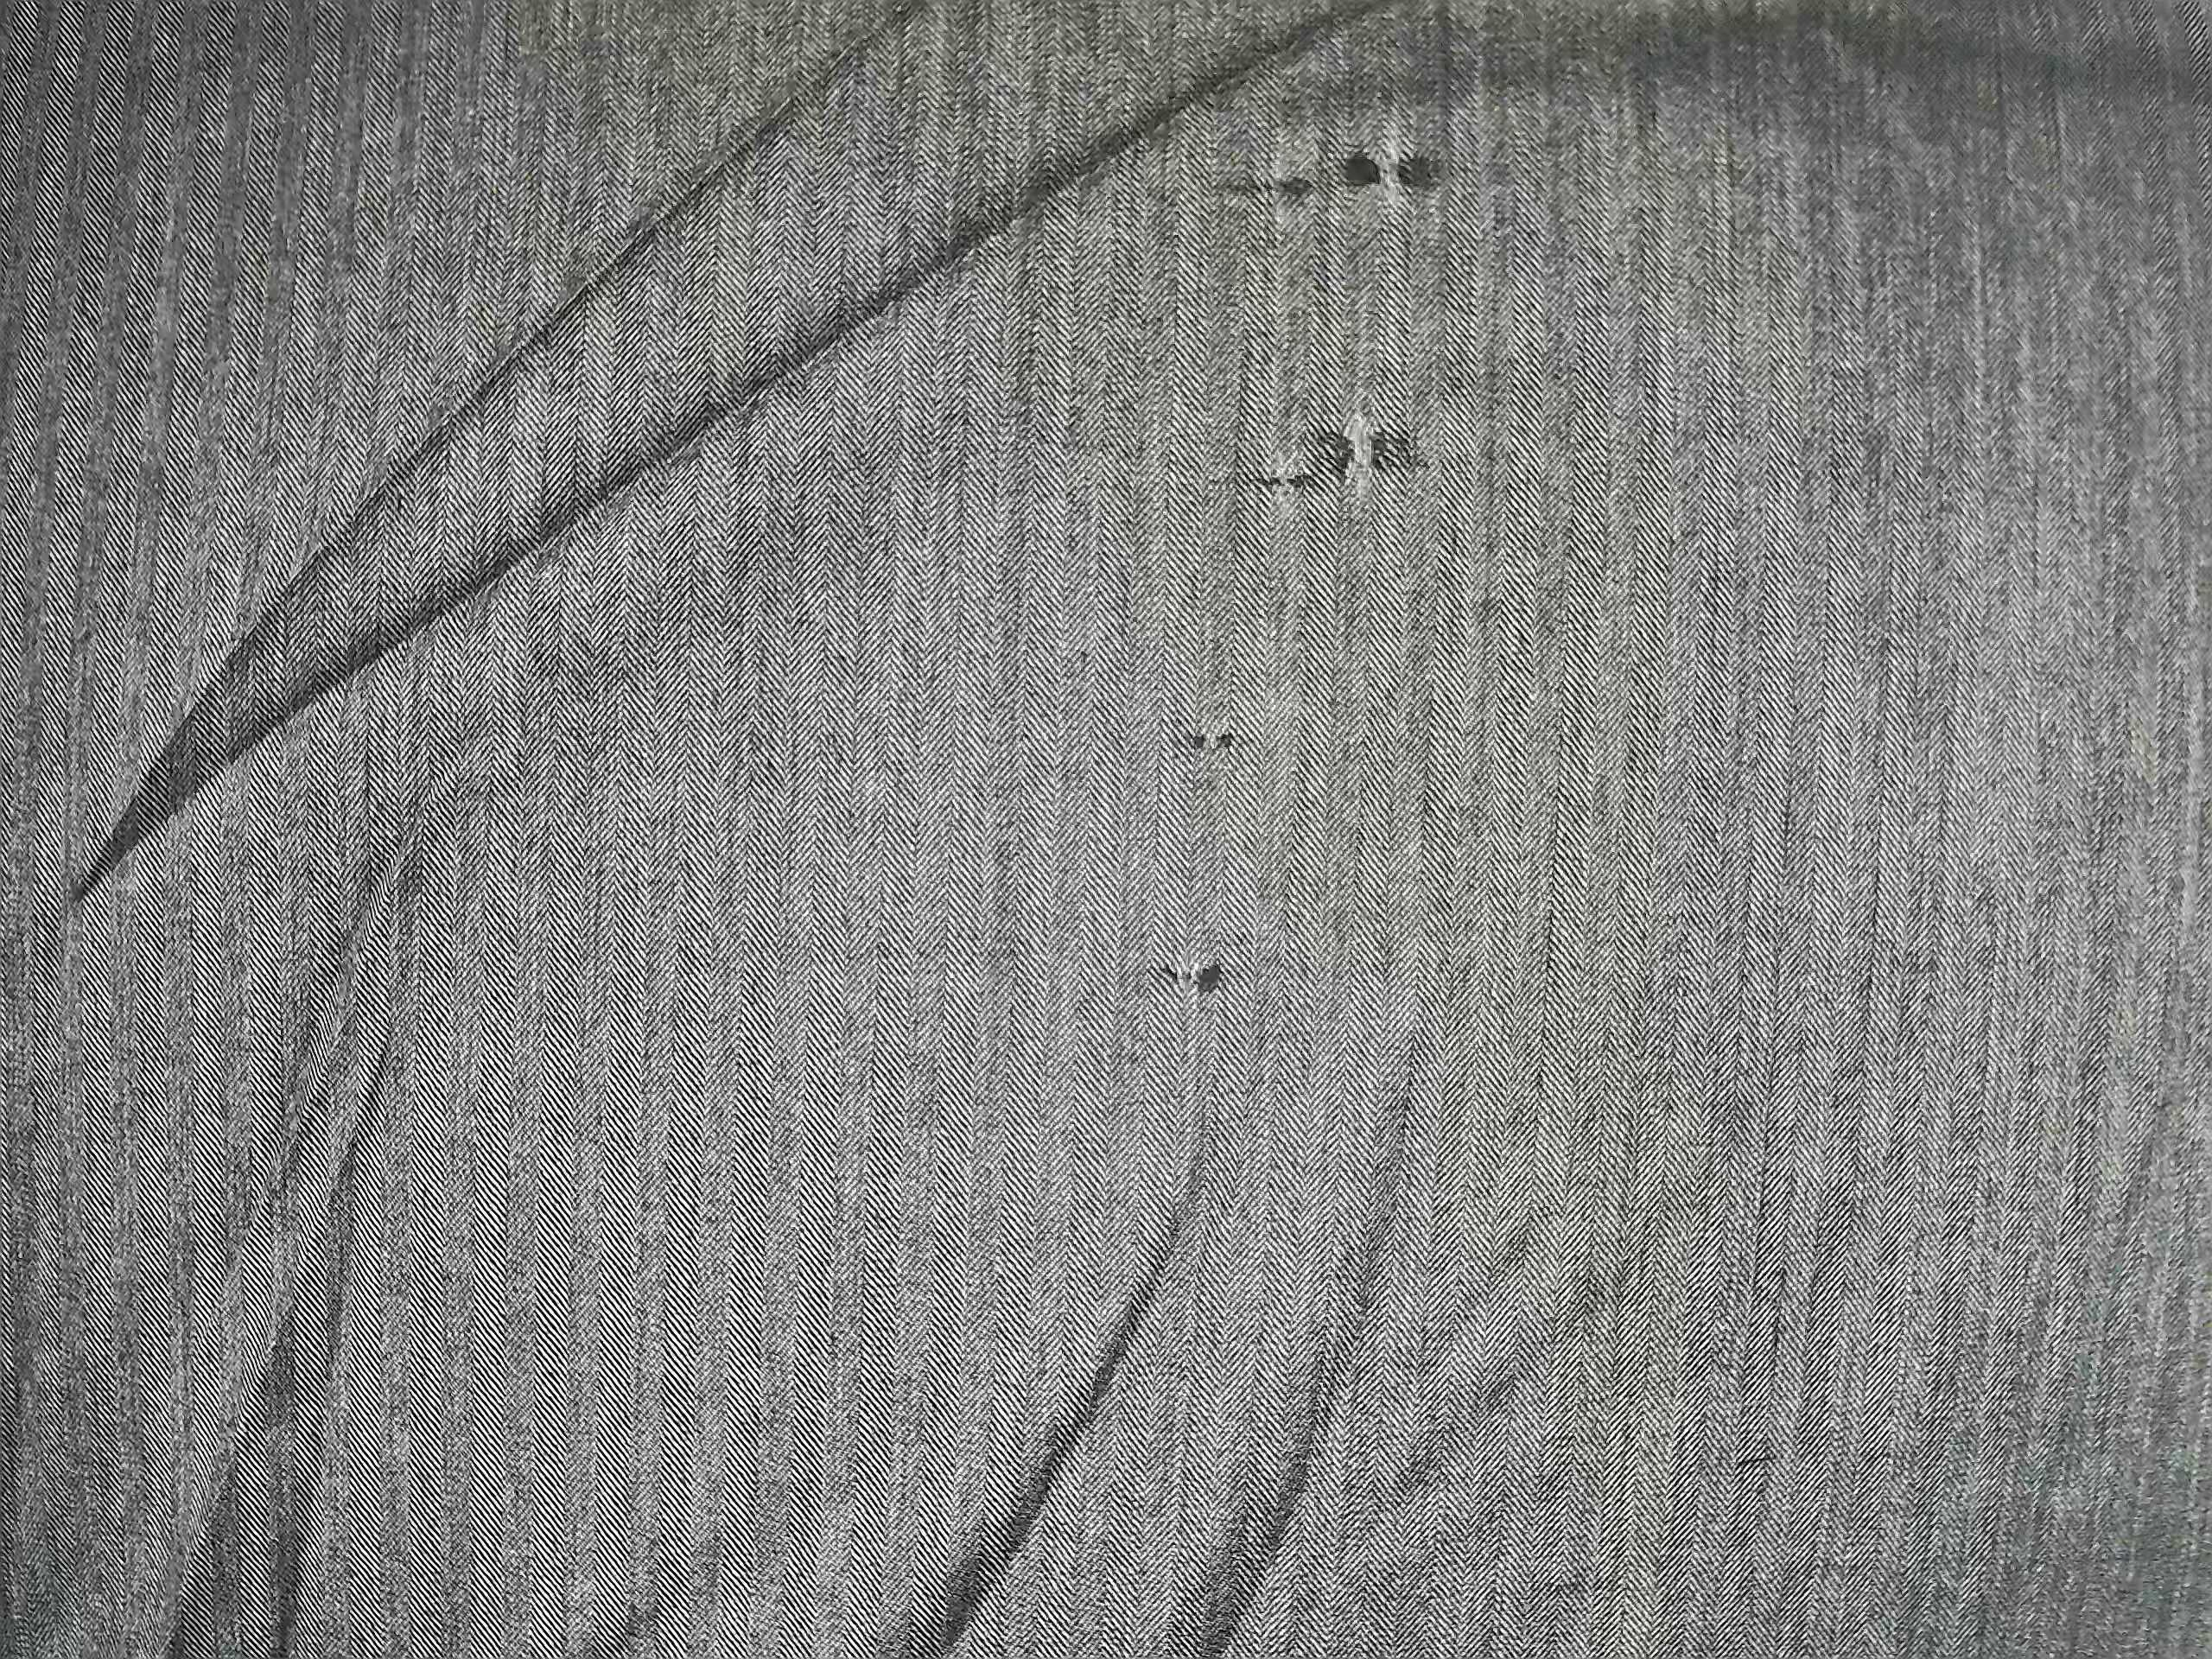knots: (1198, 115, 1500, 228), (1211, 382, 1461, 518), (1125, 929, 1261, 1014), (1146, 702, 1270, 781)
